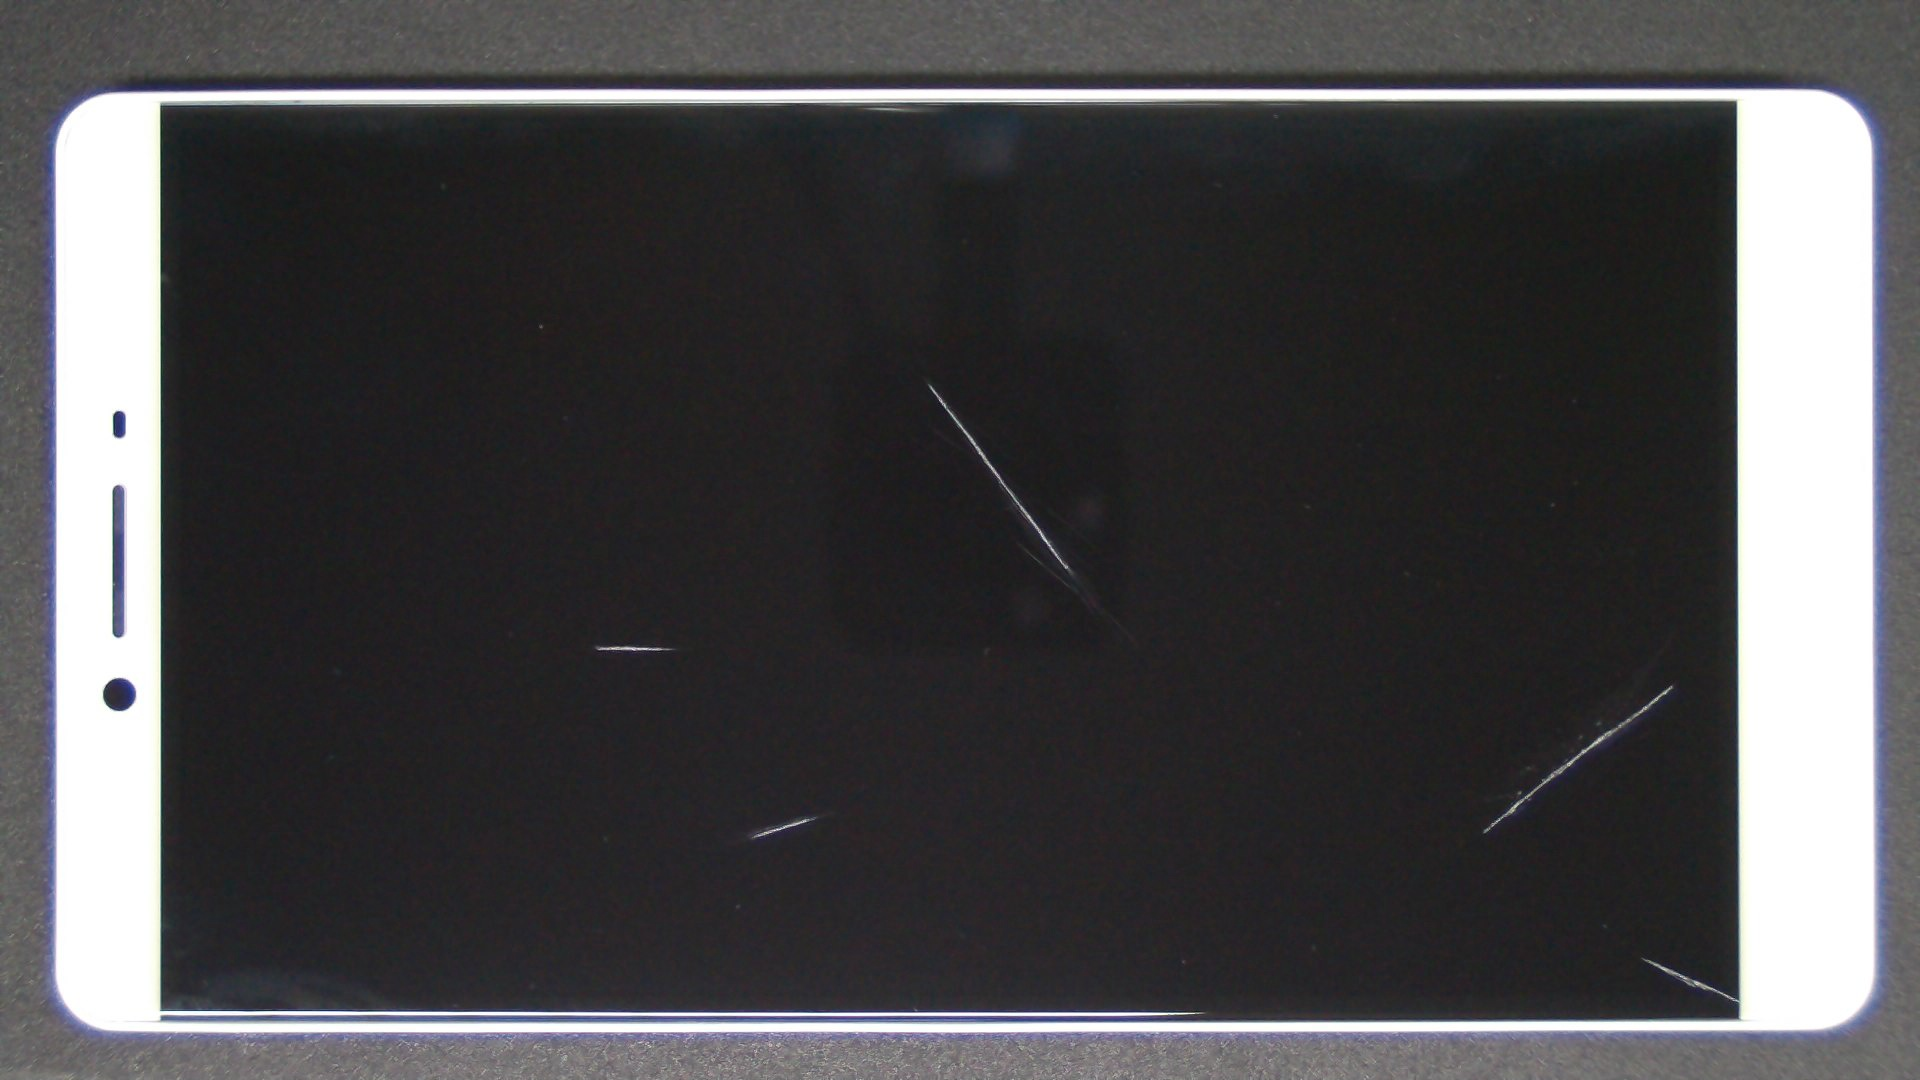oil: (836, 342, 1920, 1026), (822, 477, 1920, 1080), (402, 407, 1205, 1080), (298, 322, 893, 968), (462, 189, 1385, 568)
